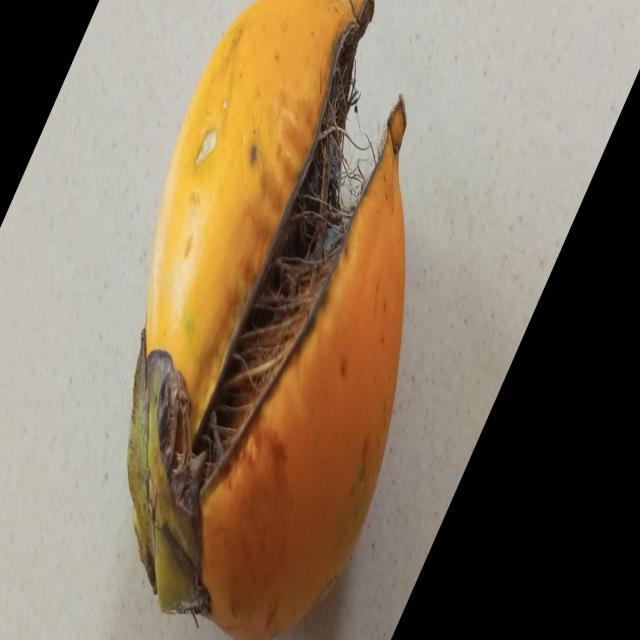damaged: (127, 0, 407, 640)
